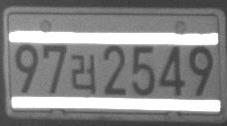2: (102, 44, 126, 95)
4: (159, 44, 186, 97)
5: (131, 44, 156, 95)
7: (41, 44, 67, 93)
9: (188, 44, 214, 96), (15, 43, 39, 93)
러: (70, 53, 96, 93)
